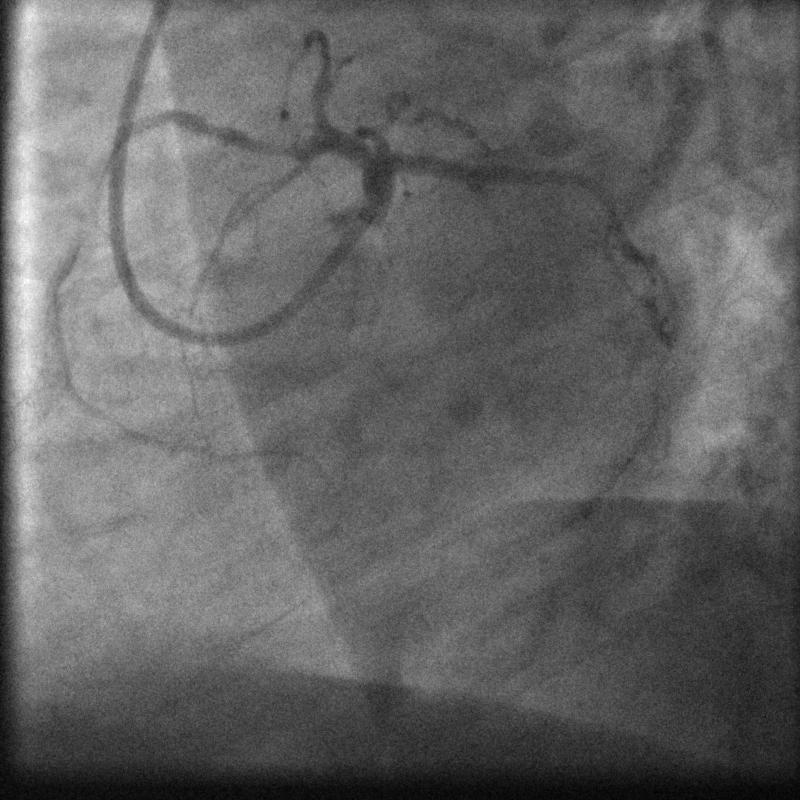Stenosis: (231, 122, 297, 169)
